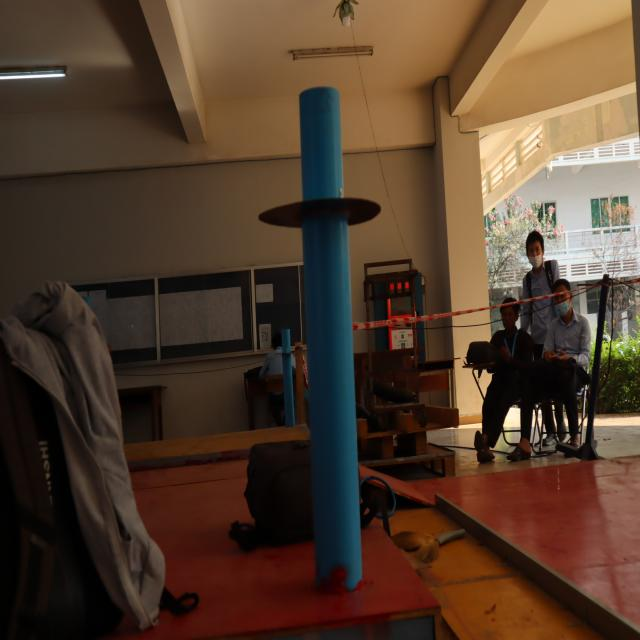pole: (250, 85, 384, 308), (271, 322, 302, 369)
